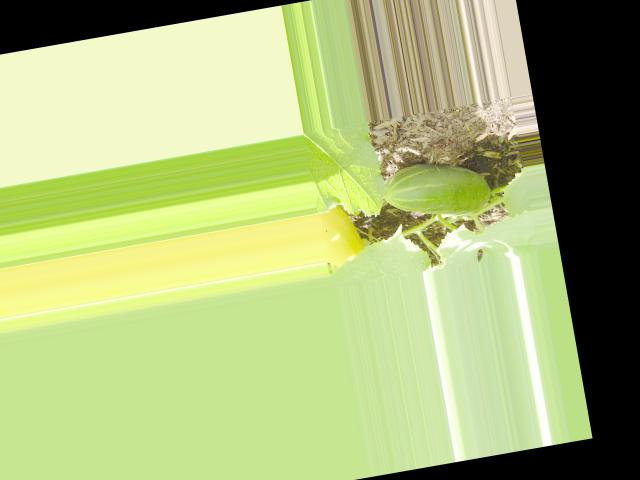cucumber: (379, 151, 494, 227)
